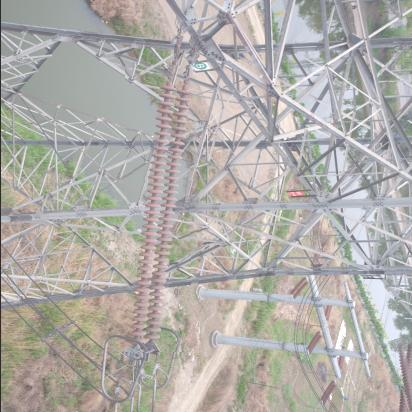insulator: (126, 66, 198, 354), (393, 338, 412, 412)
